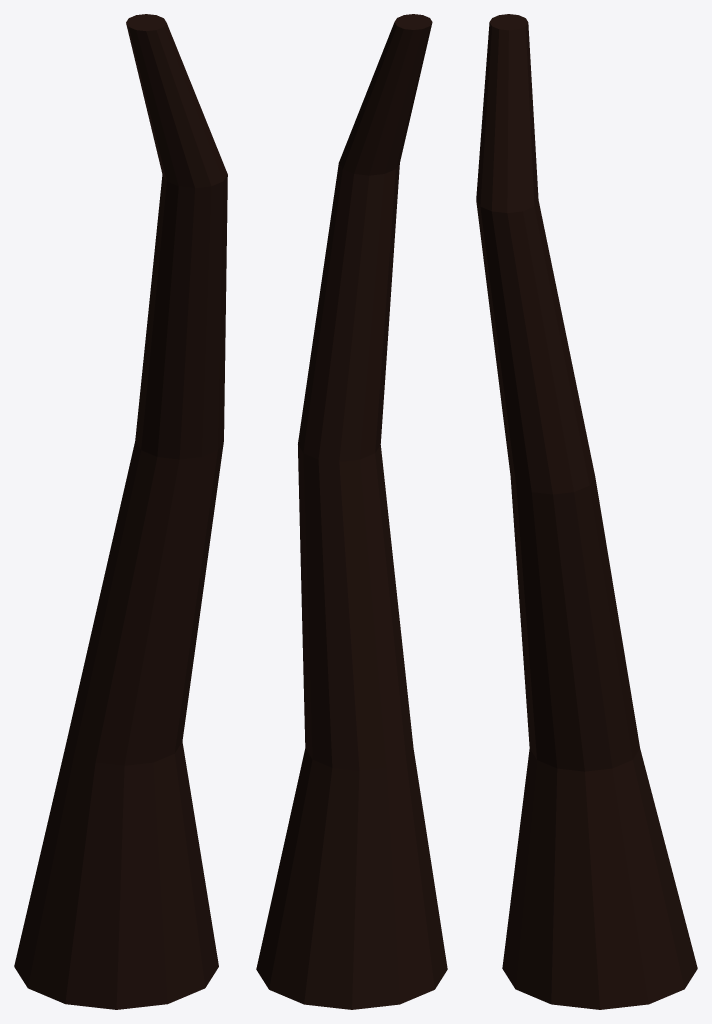
Rendered from than.obj.
The picture shows the model from 3 angles, left to right: view 1: azimuth 30°, elevation 25°; view 2: azimuth 150°, elevation 25°; view 3: azimuth 270°, elevation 25°; orthographic projection. The views are drawn at different scales.
Parts seen in each view (by area): view 1: Cylinder; view 2: Cylinder; view 3: Cylinder.
Part boxes in pixels (x1,y1,x2,y2): Cylinder: (14,14,227,1009); Cylinder: (256,14,447,1009); Cylinder: (476,14,697,1009).
Bounding box in the file's own units: 1.61 × 8.51 × 1.82.
